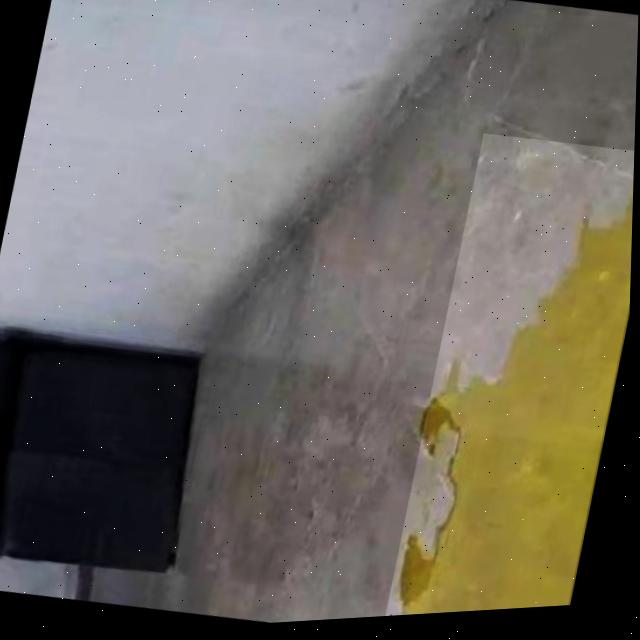spillage: (404, 204, 635, 620)
